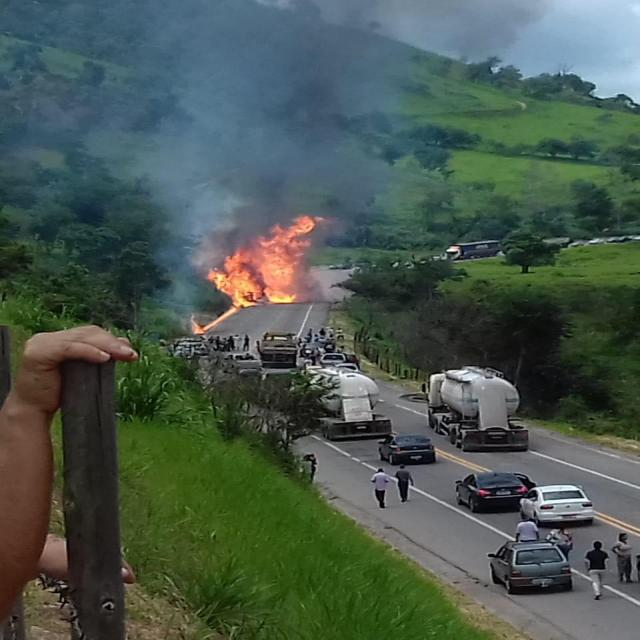fire: (190, 216, 320, 312)
